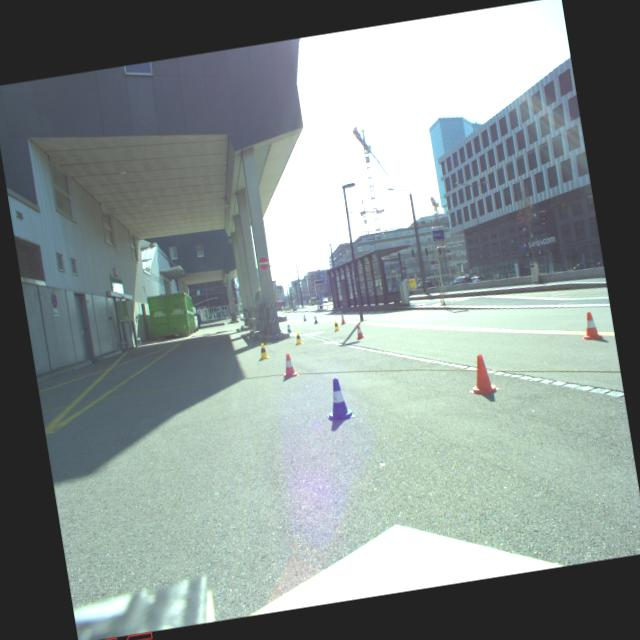blue_cone: (322, 376, 356, 422), (286, 324, 292, 334), (313, 316, 319, 324), (302, 315, 308, 322)
orange_cone: (464, 352, 501, 398), (577, 310, 605, 342), (279, 352, 300, 378), (354, 324, 366, 339), (339, 314, 346, 324)
yellow_cone: (258, 342, 270, 360), (292, 331, 304, 345), (332, 319, 341, 332)
